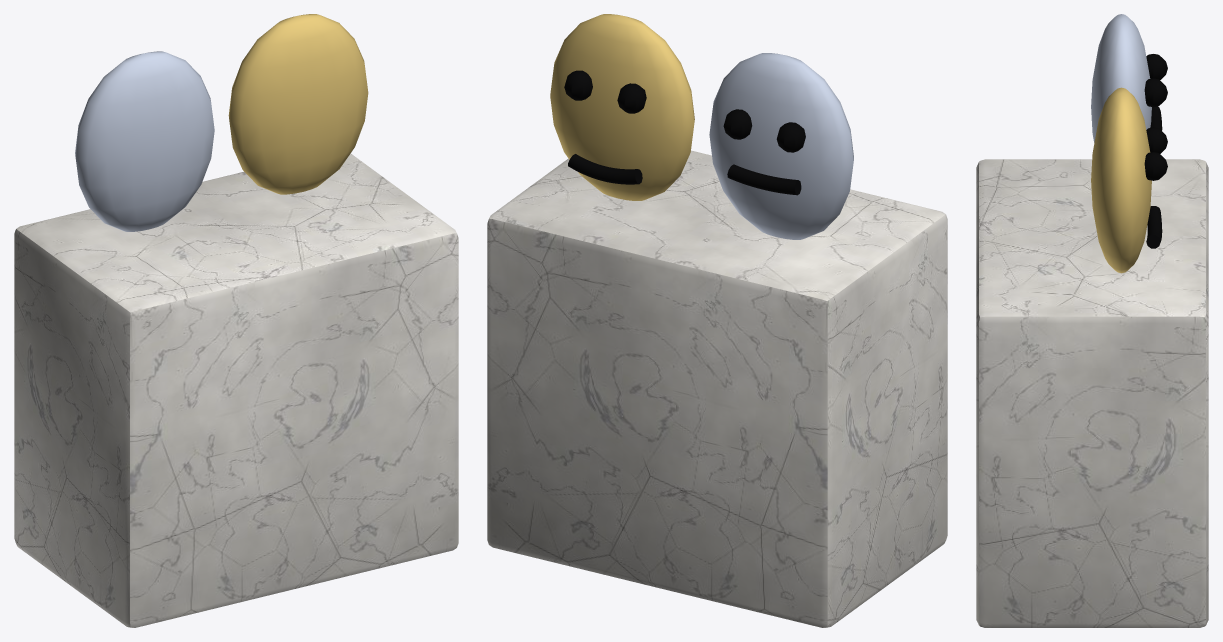
The model's file is Teatr.glb.
3 views of the same model, side by side, from view 1: azimuth 30°, elevation 25°; view 2: azimuth 150°, elevation 25°; view 3: azimuth 270°, elevation 25° (orthographic). The views are drawn at different scales.
Parts seen in each view (by area): view 1: maski_teatralne__marble, maski_teatralne__mask1, maski_teatralne__mask0; view 2: maski_teatralne__marble, maski_teatralne__mask0, maski_teatralne__mask1, maski_teatralne__void; view 3: maski_teatralne__marble, maski_teatralne__mask0, maski_teatralne__mask1, maski_teatralne__void.
Boxes of the visible parts, x1,y1,x2,y2 form: maski_teatralne__marble: [14, 153, 458, 627]; maski_teatralne__mask1: [75, 51, 214, 231]; maski_teatralne__mask0: [228, 14, 368, 194]; maski_teatralne__marble: [487, 150, 947, 627]; maski_teatralne__mask0: [550, 14, 694, 200]; maski_teatralne__mask1: [709, 53, 853, 239]; maski_teatralne__void: [564, 70, 805, 195]; maski_teatralne__marble: [976, 159, 1208, 627]; maski_teatralne__mask0: [1091, 87, 1151, 273]; maski_teatralne__mask1: [1091, 14, 1151, 142]; maski_teatralne__void: [1144, 54, 1167, 248].
Bounding box in the file's own units: 2.6 × 3.76 × 1.6.
Materials: 4 (1 with a texture image).
